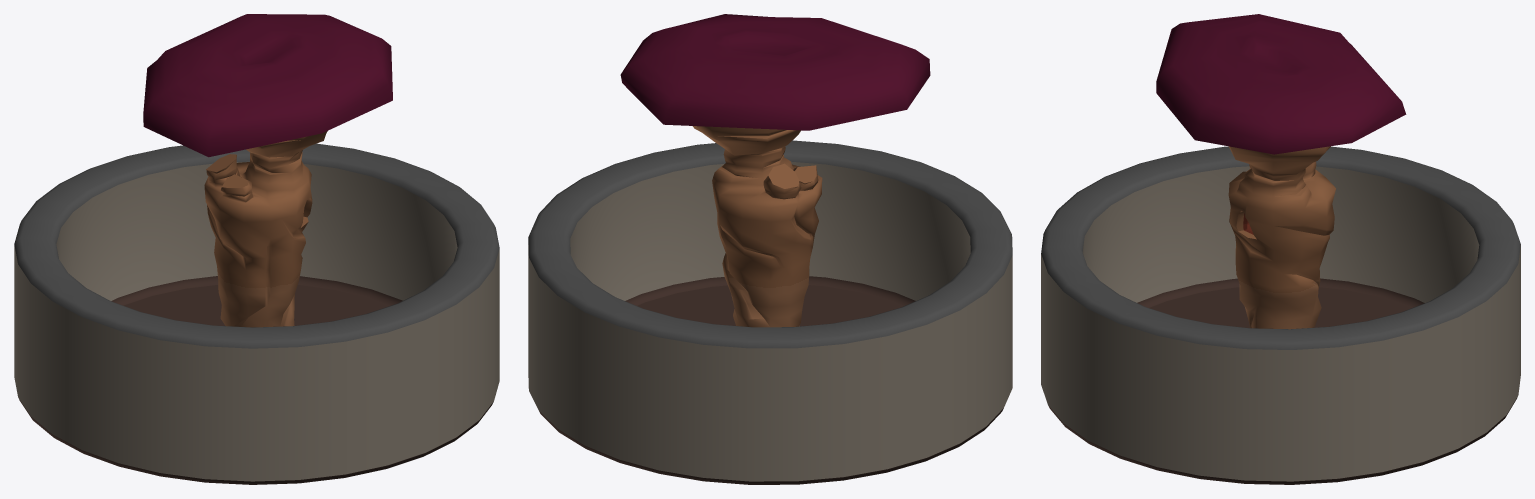
File: env_fungiTower002.fbx
3 renders of one model, left to right at view 1: azimuth 30°, elevation 25°; view 2: azimuth 150°, elevation 25°; view 3: azimuth 270°, elevation 25°, orthographic.
Parts seen in each view (by area): view 1: env_CraterTower, obj_tower; view 2: env_CraterTower, obj_tower; view 3: env_CraterTower, obj_tower.
Boxes of the visible parts, x1,y1,x2,y2 form: env_CraterTower: (14,143,499,484); obj_tower: (143,14,392,327); env_CraterTower: (528,140,1012,484); obj_tower: (620,14,930,327); env_CraterTower: (1041,146,1520,484); obj_tower: (1156,14,1406,329).
Bounding box in the file's own units: 111 × 85.09 × 111.
